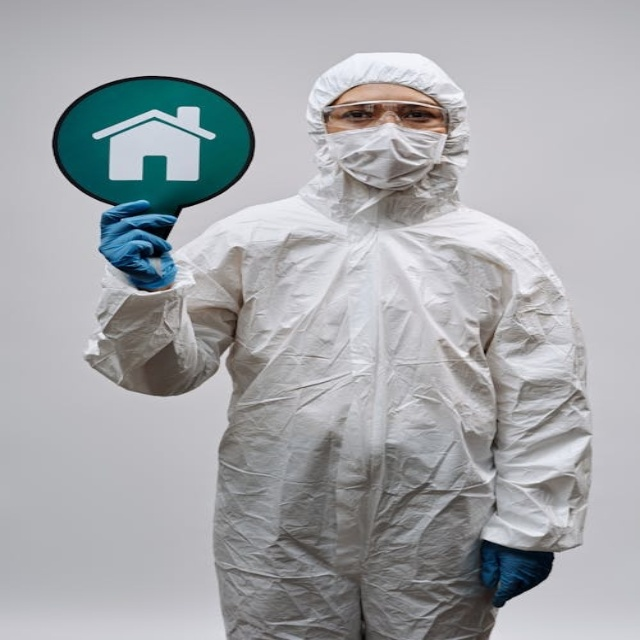Gafas: (324, 101, 450, 131)
Guantes: (98, 198, 178, 291), (479, 541, 552, 609)
Mascara: (323, 115, 447, 189)
